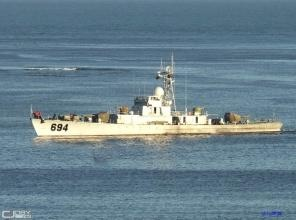warship: (16, 68, 290, 136)
